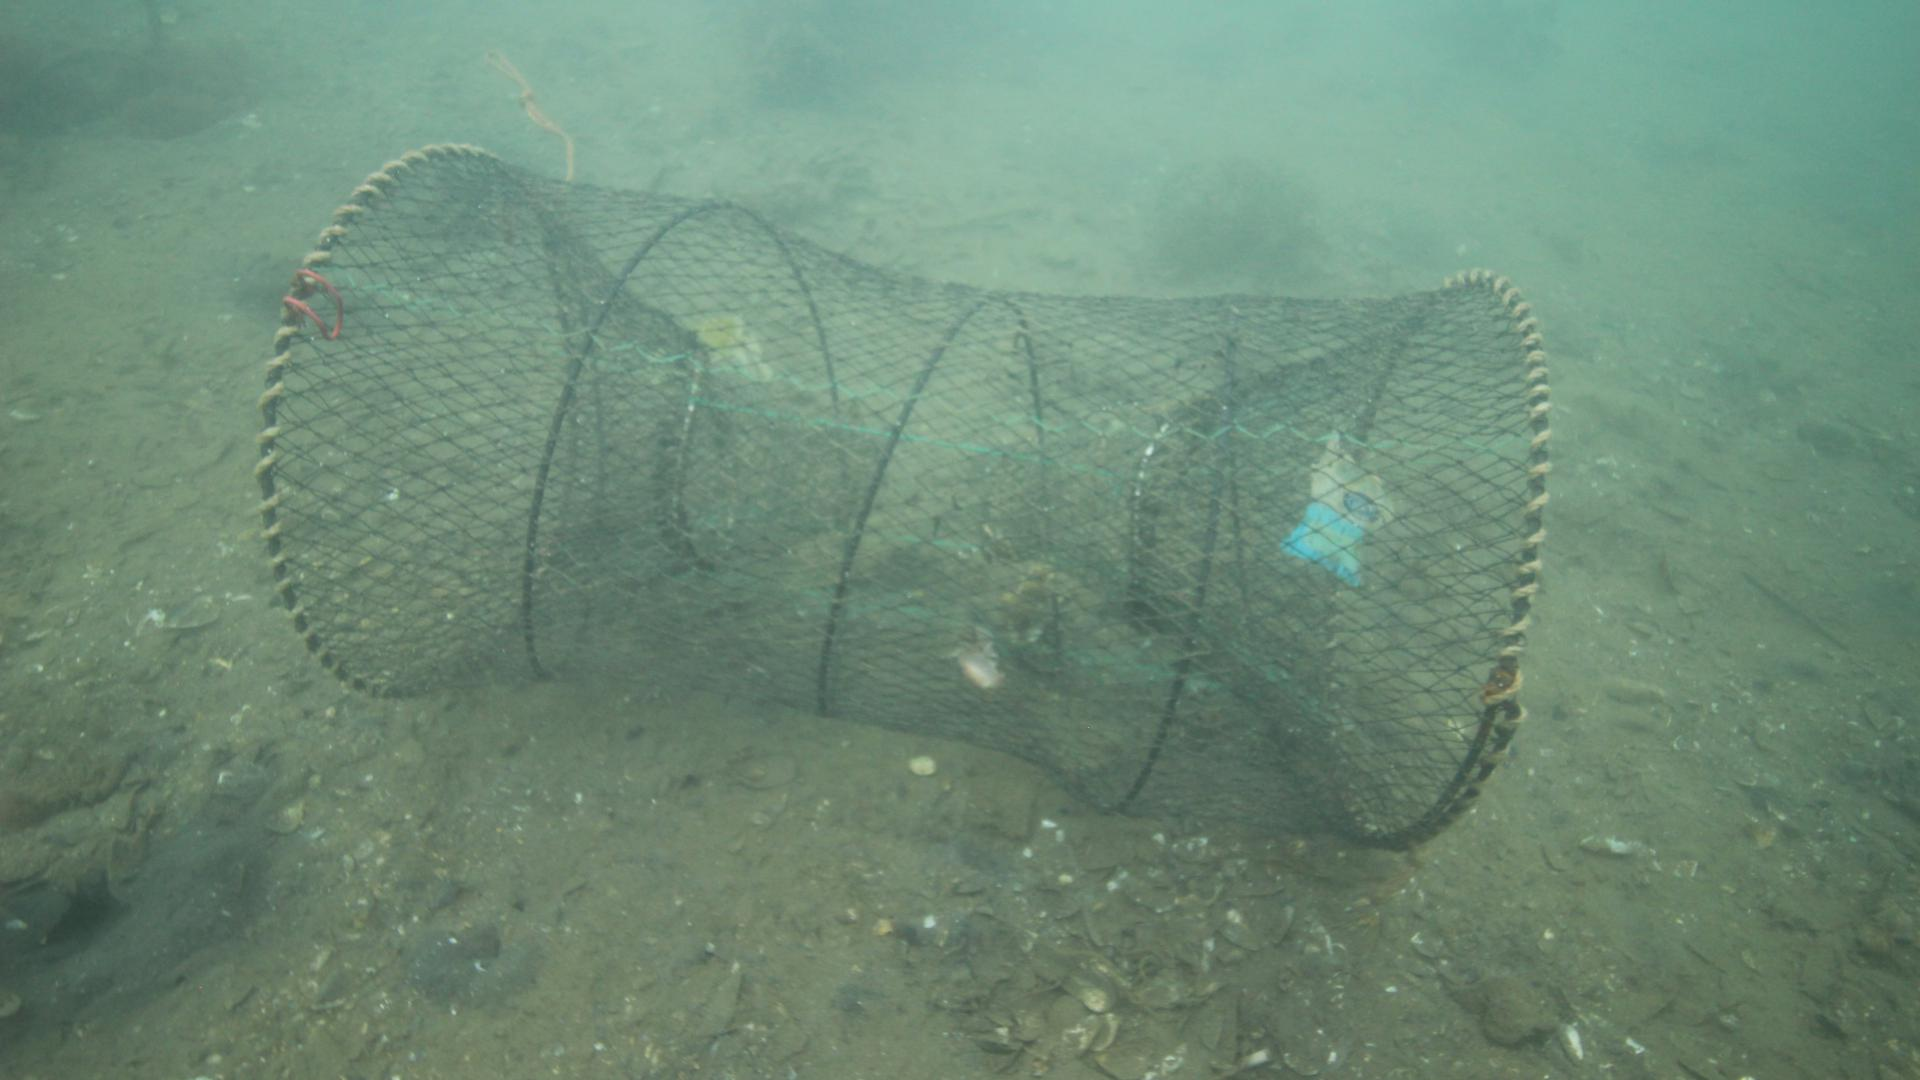bundle of ropes: (477, 44, 580, 189)
spring fish trap: (257, 140, 1557, 855)
